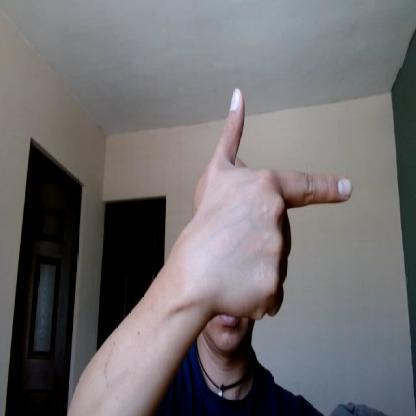G: (197, 88, 353, 314)
